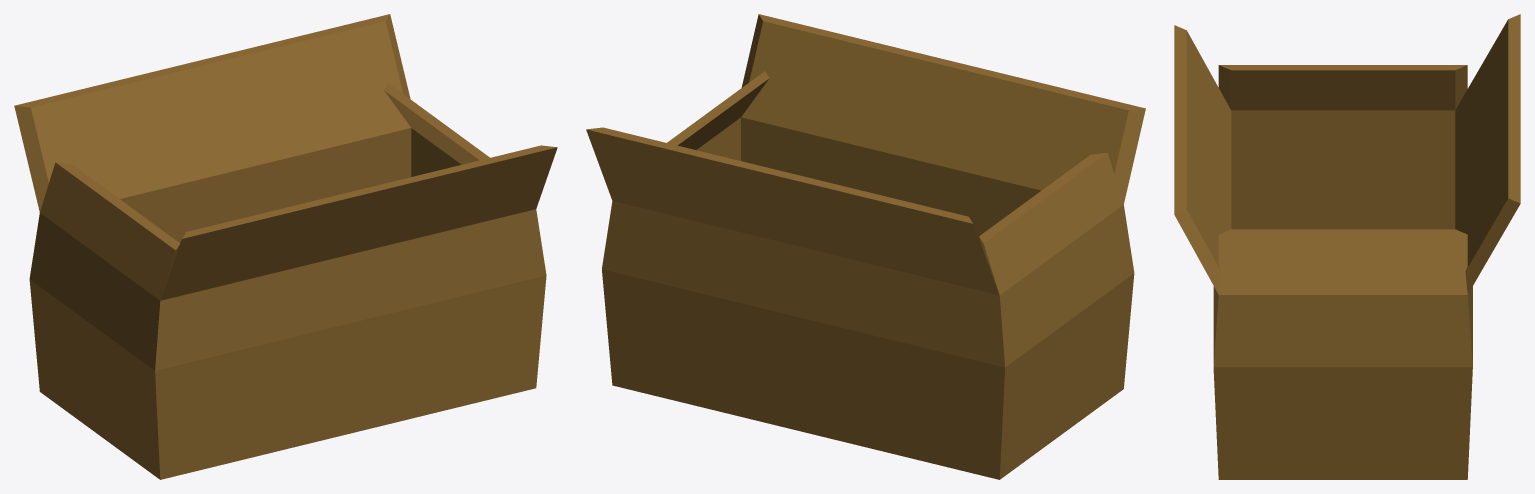
3 renders of one model, left to right at view 1: azimuth 30°, elevation 25°; view 2: azimuth 150°, elevation 25°; view 3: azimuth 270°, elevation 25°, orthographic. The views are drawn at different scales.
Visible parts, largest first — view 1: Box; view 2: Box; view 3: Box.
Part boxes in pixels (x1,y1,x2,y2): Box: [14, 14, 557, 479]; Box: [586, 14, 1145, 479]; Box: [1174, 14, 1520, 479].
Bounding box in the file's own units: 0.539 × 0.3517 × 0.3996.
